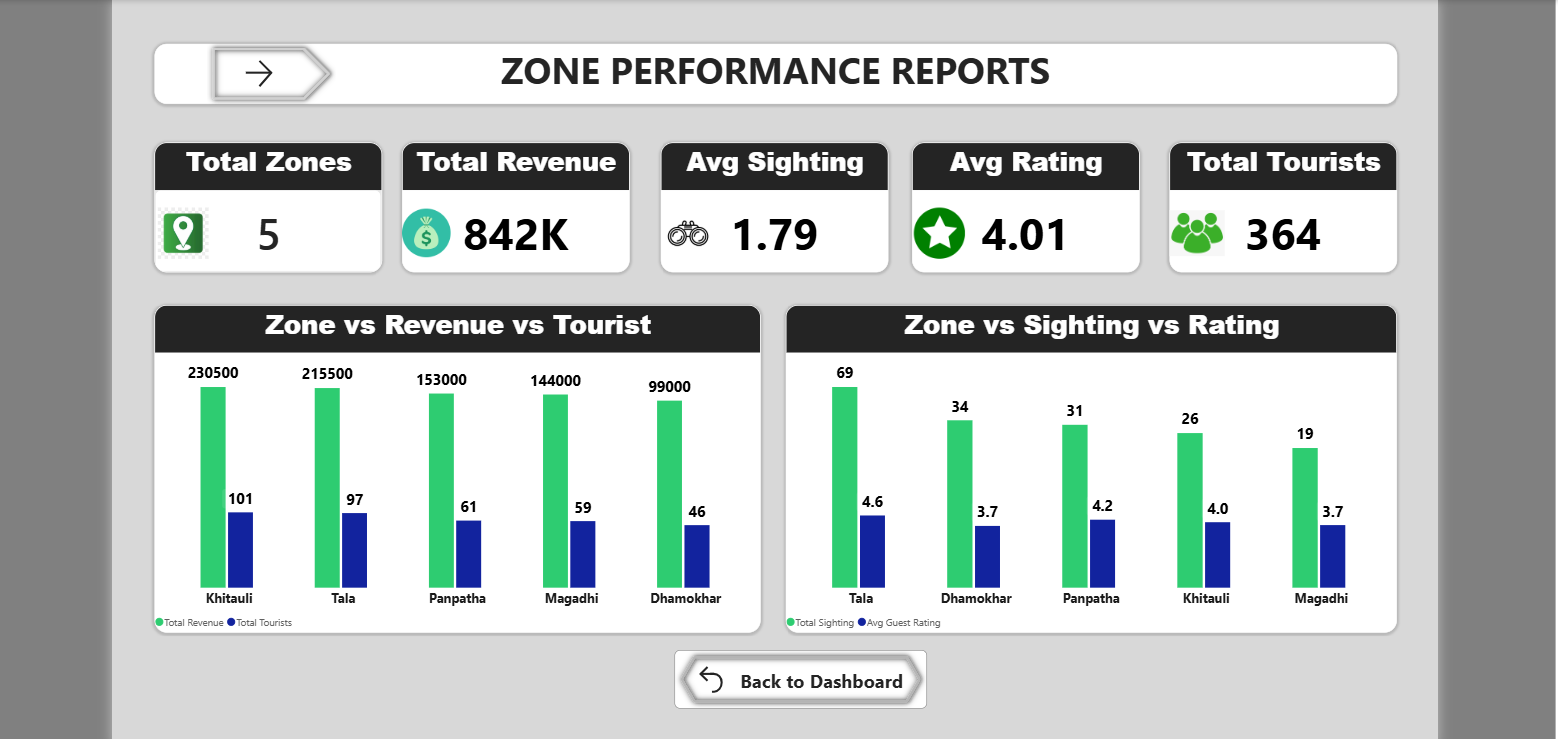

What the dashboard file says about the page in this screenshot:
{"tool":"powerbi","page":{"name":"Page 5","canvas":[1920,1080],"ordinal":4},"visuals":[{"type":"textbox","box":[61.5,63.3,1798.8,86.9],"z":0},{"type":"actionButton","box":[814.3,941,365.6,85.1],"z":1000},{"type":"actionButton","box":[137.5,61.5,186.4,90.5],"z":2000},{"type":"cardVisual","title":"Total Zones","fields":{"Data":["safari_bookings.Total Zones"]},"box":[61.5,206.3,329.4,188.2],"z":3000},{"type":"card","title":"Total Revenue","fields":{"Values":["safari_bookings.Total Revenue"]},"box":[419.8,206.3,329.4,188.2],"z":4000},{"type":"card","title":"Avg Sighting","fields":{"Values":["tiger_sighting.Avg Sighting Count"]},"box":[794.4,206.3,329.4,188.2],"z":5000},{"type":"card","title":"Avg Rating","fields":{"Values":["visitor_feedback.Avg Guest Rating"]},"box":[1158.2,206.3,329.4,188.2],"z":6000},{"type":"card","title":"Total Tourists","fields":{"Values":["safari_bookings.Total Tourists"]},"box":[1531,206.3,329.4,188.2],"z":7000},{"type":"image","box":[419.8,300.4,70.6,74.2],"z":8000},{"type":"image","box":[794.4,300.4,79.6,74.2],"z":9000},{"type":"image","box":[1158.2,300.4,79.6,74.2],"z":10000},{"type":"image","box":[1531,300.4,79.6,74.2],"z":11000},{"type":"image","box":[61.5,300.4,83.2,74.2],"z":12000},{"type":"clusteredColumnChart","title":"Zone vs Revenue vs Tourist","fields":{"Category":["Dim_Zone.Zone"],"Y":["safari_bookings.Total Revenue","safari_bookings.Total Tourists"]},"box":[61.5,441.6,877.7,474.1],"z":13000},{"type":"clusteredColumnChart","title":"Zone vs Sighting vs Rating","fields":{"Category":["Dim_Zone.Zone"],"Y":["safari_bookings.Total Sighting","visitor_feedback.Avg Guest Rating"]},"box":[975.4,441.6,884.9,474.1],"z":14000}]}

Visuals, with their boxes on the page's 1920x1080 design canvas (x1, y1, x2, y2). These are canvas units, not pixel positions in the 1558x739 screenshot, which may show the page scaled, cropped or inside an application window:
textbox: [x1=62, y1=63, x2=1860, y2=150]
actionButton: [x1=814, y1=941, x2=1180, y2=1026]
actionButton: [x1=138, y1=62, x2=324, y2=152]
"Total Zones" cardVisual: [x1=62, y1=206, x2=391, y2=394]
"Total Revenue" card: [x1=420, y1=206, x2=749, y2=394]
"Avg Sighting" card: [x1=794, y1=206, x2=1124, y2=394]
"Avg Rating" card: [x1=1158, y1=206, x2=1488, y2=394]
"Total Tourists" card: [x1=1531, y1=206, x2=1860, y2=394]
image: [x1=420, y1=300, x2=490, y2=375]
image: [x1=794, y1=300, x2=874, y2=375]
image: [x1=1158, y1=300, x2=1238, y2=375]
image: [x1=1531, y1=300, x2=1611, y2=375]
image: [x1=62, y1=300, x2=145, y2=375]
"Zone vs Revenue vs Tourist" clusteredColumnChart: [x1=62, y1=442, x2=939, y2=916]
"Zone vs Sighting vs Rating" clusteredColumnChart: [x1=975, y1=442, x2=1860, y2=916]
